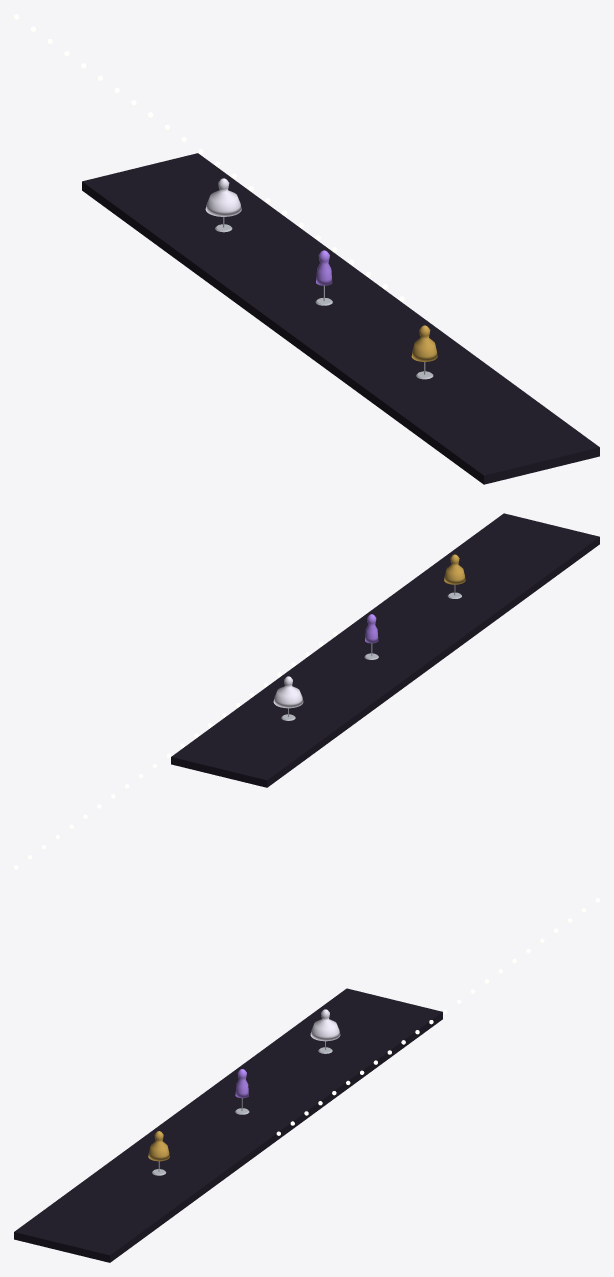
Rendered from Preset-runway.glb.
3 views of the same model, one above another, from view 1: azimuth 30°, elevation 25°; view 2: azimuth 150°, elevation 25°; view 3: azimuth 330°, elevation 25° (orthographic). The views are drawn at different scales.
Visible parts, largest first — view 1: stage-node, look-3-form, look-1-form; view 2: stage-node, look-3-form; view 3: stage-node, look-3-form.
Part boxes in pixels (x1,y1,x2,y2): stage-node: (82,153,599,484); look-3-form: (205,178,241,216); look-1-form: (411,325,437,361); stage-node: (171,513,599,787); look-3-form: (273,676,303,708); stage-node: (14,988,442,1262); look-3-form: (310,1009,340,1041).
Size of the model in its own units: 4.18 by 1.99 by 35.08.
